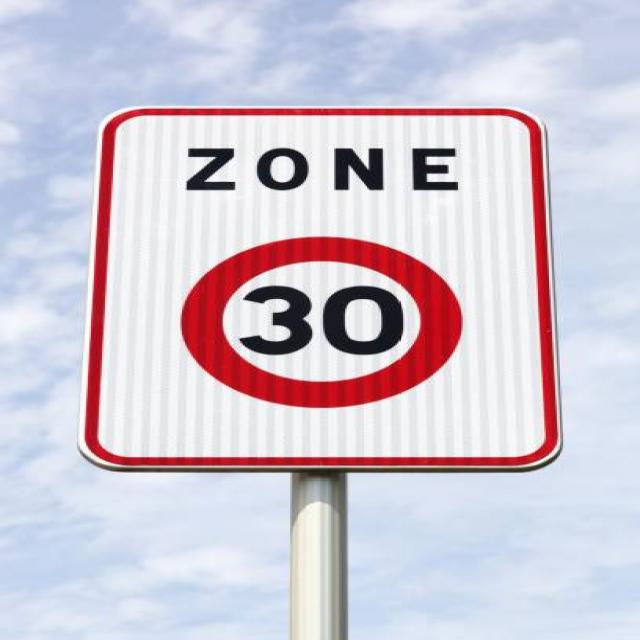speed_limit_30: (168, 229, 478, 416)
